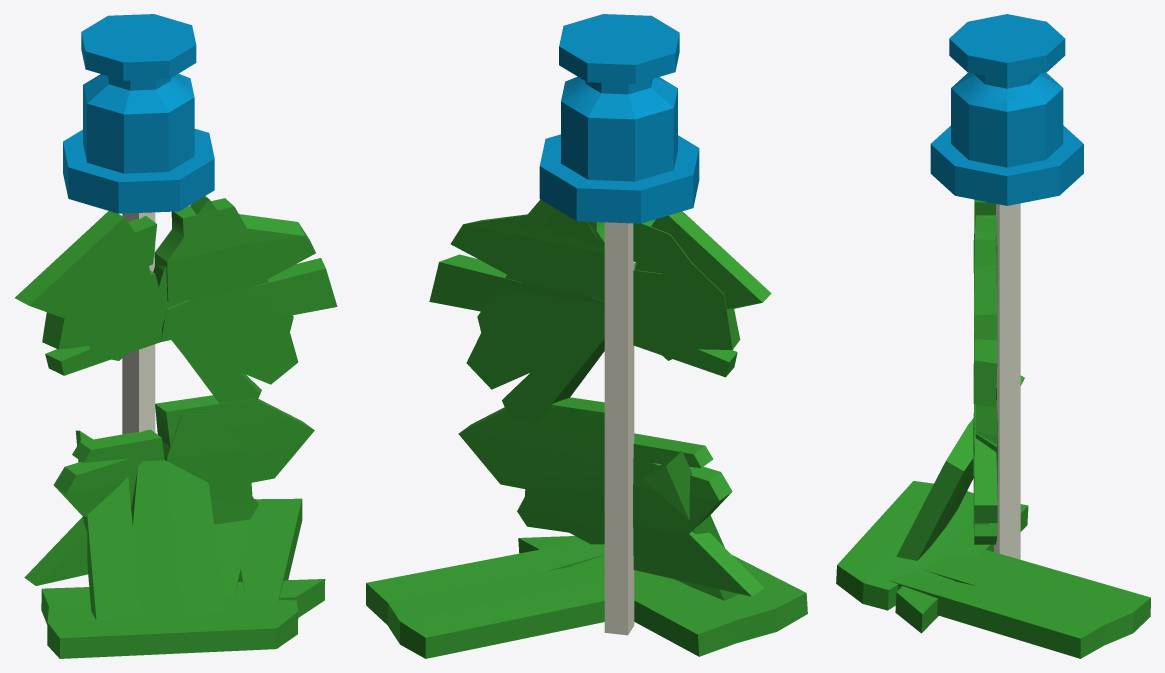
File: PA_scene_WeiLan_PS_mod.fbx
The picture shows the model from 3 angles, left to right: view 1: azimuth 30°, elevation 25°; view 2: azimuth 150°, elevation 25°; view 3: azimuth 270°, elevation 25°; orthographic projection. The views are drawn at different scales.
Parts seen in each view (by area): view 1: weilan_1, weilan_3, weilan_2, weilan_4; view 2: weilan_1, weilan_3, weilan_4, weilan_2; view 3: weilan_3, weilan_1, weilan_2, weilan_4.
Boxes of the visible parts, left/top/right/bottom form: weilan_1: left=63, top=14, right=337, bottom=604; weilan_3: left=15, top=14, right=325, bottom=658; weilan_2: left=63, top=15, right=298, bottom=620; weilan_4: left=24, top=24, right=211, bottom=585; weilan_1: left=366, top=14, right=699, bottom=658; weilan_3: left=458, top=14, right=807, bottom=656; weilan_4: left=540, top=27, right=763, bottom=596; weilan_2: left=466, top=14, right=739, bottom=600; weilan_3: left=836, top=14, right=1083, bottom=633; weilan_1: left=887, top=14, right=1150, bottom=658; weilan_2: left=896, top=15, right=1074, bottom=560; weilan_4: left=930, top=16, right=1082, bottom=554.
Bounding box in the file's own units: 14.94 × 24.16 × 12.99.
